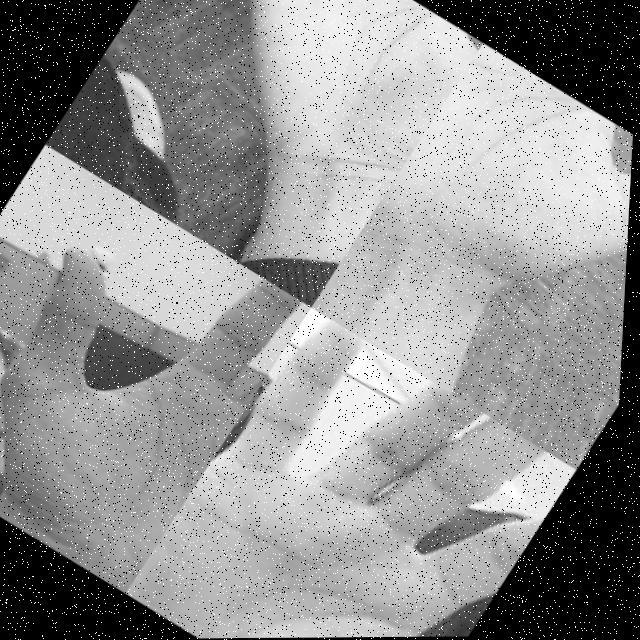no-gloves: (129, 306, 588, 640), (0, 180, 319, 594), (345, 41, 638, 413), (98, 0, 485, 217)
